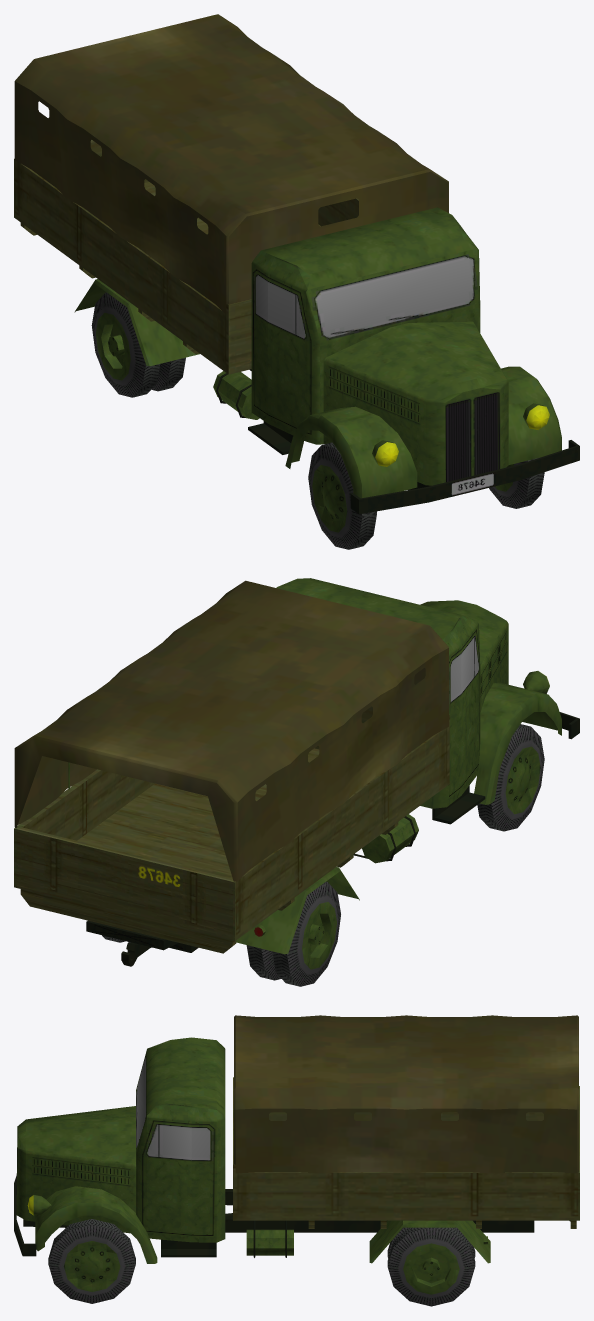
The model's file is ScaniaVabisF11.obj.
3 renders of one model, top to bottom at view 1: azimuth 30°, elevation 25°; view 2: azimuth 150°, elevation 25°; view 3: azimuth 270°, elevation 25°, orthographic. The views are drawn at different scales.
Parts seen in each view (by area): view 1: g0; view 2: g0; view 3: g0.
Part boxes in pixels (<box>): g0: <box>14,14,579,549</box>; g0: <box>14,578,579,986</box>; g0: <box>14,1015,579,1306</box>.
Bounding box in the file's own units: 20.44 × 23.48 × 55.66.
